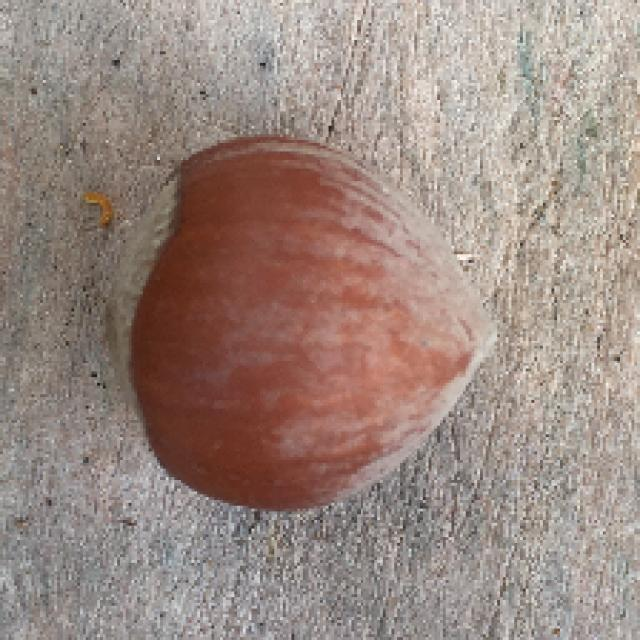qualityHazelnut: (99, 132, 495, 514)
